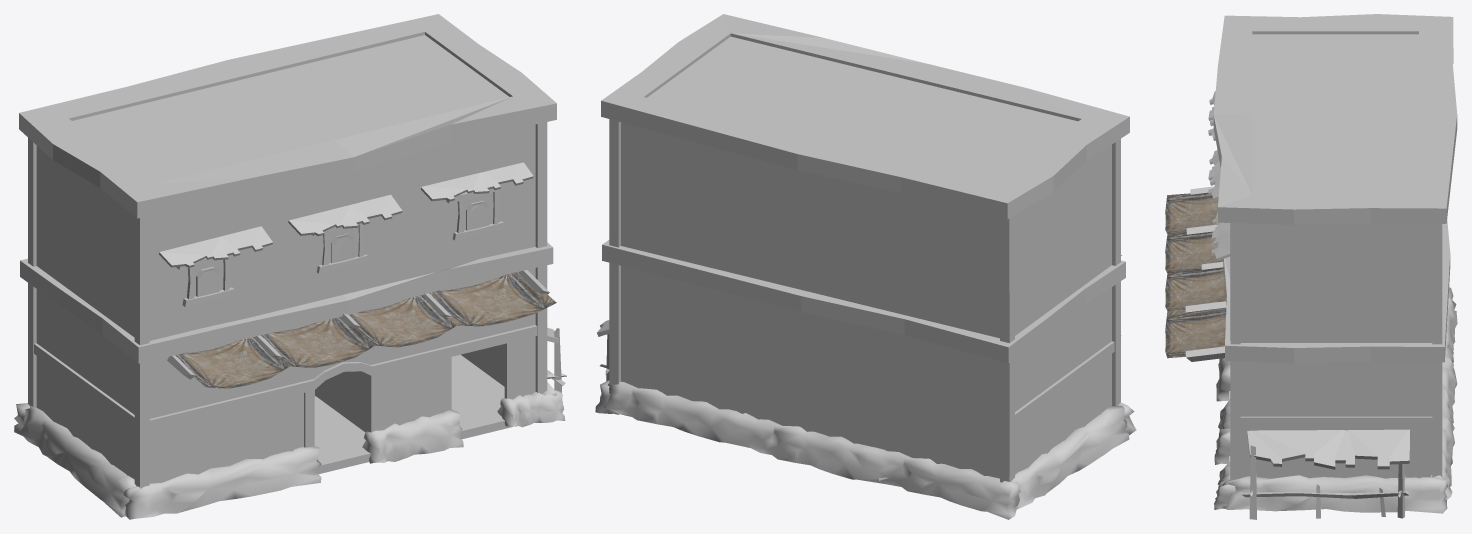
File: ManChengJianZhu05.FBX
3 renders of one model, left to right at view 1: azimuth 30°, elevation 25°; view 2: azimuth 150°, elevation 25°; view 3: azimuth 270°, elevation 25°, orthographic. The views are drawn at different scales.
Visible parts, largest first — view 1: Ele_ManChengJianZhu05_qiang02, Ele_ManChengJianZhu05_wuding, Ele_ManChengJianZhu05_wuding01, Ele_ManChengJianZhu05_wujian02, Ele_ManChengJianZhu05_wujian01, Ele_ManChengJianZhu05_qiang03, Ele_ManChengJianZhu05_wall, Ele_ManChengJianZhu05_bu, Ele_ManChengJianZhu05_wujian03, Ele_ManChengJianZhu05_men, Ele_ManChengJianZhu05_qiang01, Ele_ManChengJianZhu05_dimian (+3 smaller); view 2: Ele_ManChengJianZhu05_qiang02, Ele_ManChengJianZhu05_wuding, Ele_ManChengJianZhu05_wuding01, Ele_ManChengJianZhu05_wall, Ele_ManChengJianZhu05_wujian01, Ele_ManChengJianZhu05_wujian02, Ele_ManChengJianZhu05_qiang03, Ele_ManChengJianZhu05_qiang01, Ele_ManChengJianZhu05_men; view 3: Ele_ManChengJianZhu05_qiang03, Ele_ManChengJianZhu05_wuding01, Ele_ManChengJianZhu05_wuding, Ele_ManChengJianZhu05_wujian01, Ele_ManChengJianZhu05_wujian02, Ele_ManChengJianZhu05_bu, Ele_ManChengJianZhu05_qiang01, Ele_ManChengJianZhu05_men, Ele_ManChengJianZhu05_wujian03, Ele_ManChengJianZhu05_wujian.
Boxes of the visible parts, x1=… form: Ele_ManChengJianZhu05_qiang02: x1=149, y1=124, x2=535, y2=418; Ele_ManChengJianZhu05_wuding: x1=19, y1=14, x2=556, y2=218; Ele_ManChengJianZhu05_wuding01: x1=72, y1=35, x2=509, y2=182; Ele_ManChengJianZhu05_wujian02: x1=20, y1=122, x2=553, y2=420; Ele_ManChengJianZhu05_wujian01: x1=14, y1=327, x2=566, y2=519; Ele_ManChengJianZhu05_qiang03: x1=36, y1=146, x2=134, y2=414; Ele_ManChengJianZhu05_wall: x1=149, y1=336, x2=535, y2=483; Ele_ManChengJianZhu05_bu: x1=175, y1=272, x2=556, y2=388; Ele_ManChengJianZhu05_wujian03: x1=159, y1=162, x2=533, y2=306; Ele_ManChengJianZhu05_men: x1=28, y1=321, x2=547, y2=488; Ele_ManChengJianZhu05_qiang01: x1=36, y1=356, x2=134, y2=479; Ele_ManChengJianZhu05_dimian: x1=314, y1=354, x2=504, y2=458; Ele_ManChengJianZhu05_qiang02: x1=621, y1=122, x2=999, y2=422; Ele_ManChengJianZhu05_wuding: x1=601, y1=14, x2=1129, y2=219; Ele_ManChengJianZhu05_wuding01: x1=647, y1=36, x2=1077, y2=182; Ele_ManChengJianZhu05_wall: x1=620, y1=331, x2=999, y2=478; Ele_ManChengJianZhu05_wujian01: x1=595, y1=320, x2=1136, y2=519; Ele_ManChengJianZhu05_wujian02: x1=602, y1=119, x2=1125, y2=416; Ele_ManChengJianZhu05_qiang03: x1=1015, y1=144, x2=1111, y2=411; Ele_ManChengJianZhu05_qiang01: x1=1015, y1=354, x2=1111, y2=474; Ele_ManChengJianZhu05_men: x1=609, y1=319, x2=1120, y2=482; Ele_ManChengJianZhu05_qiang03: x1=1240, y1=223, x2=1432, y2=416; Ele_ManChengJianZhu05_wuding01: x1=1252, y1=34, x2=1418, y2=195; Ele_ManChengJianZhu05_wuding: x1=1213, y1=14, x2=1457, y2=224; Ele_ManChengJianZhu05_wujian01: x1=1214, y1=287, x2=1457, y2=519; Ele_ManChengJianZhu05_wujian02: x1=1223, y1=219, x2=1450, y2=414; Ele_ManChengJianZhu05_bu: x1=1165, y1=193, x2=1226, y2=358; Ele_ManChengJianZhu05_qiang01: x1=1240, y1=427, x2=1432, y2=478; Ele_ManChengJianZhu05_men: x1=1230, y1=415, x2=1442, y2=480; Ele_ManChengJianZhu05_wujian03: x1=1208, y1=91, x2=1230, y2=260; Ele_ManChengJianZhu05_wujian: x1=1185, y1=186, x2=1226, y2=361.
Size of the model in its own units: 703 by 474 by 411.
